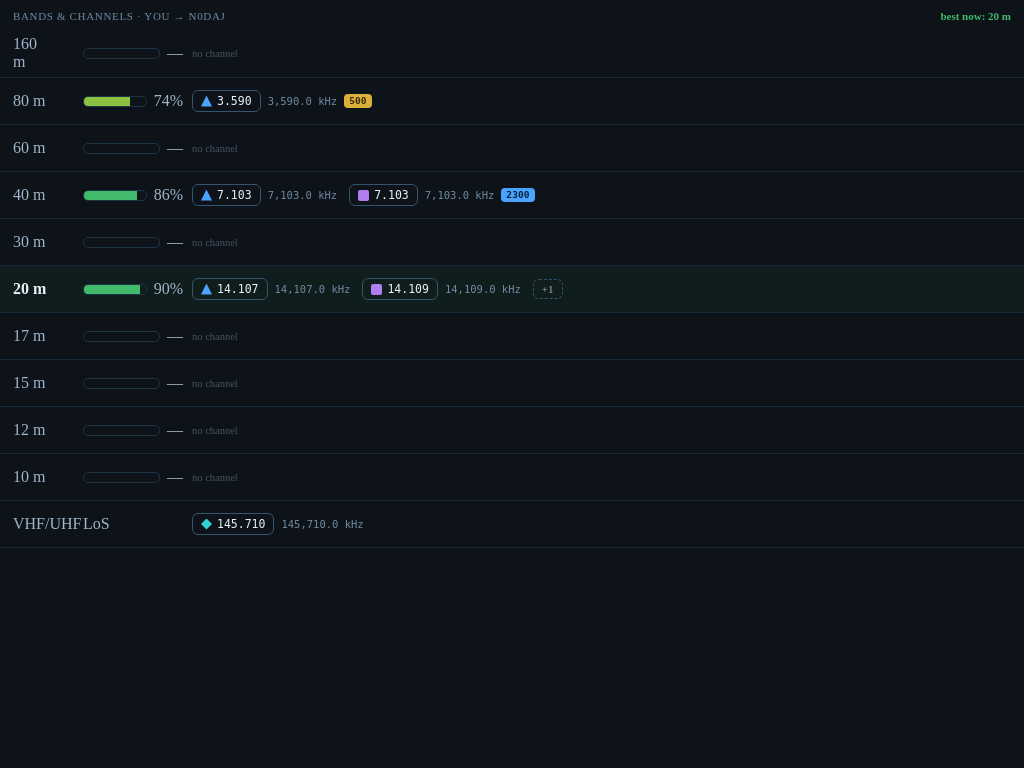
Test: BandMatrix › +N overflow › expands the row to reveal the hidden chip on click
Click the button with test id "bandmatrix-more-20m" at [548, 289], box [533, 279, 562, 299]
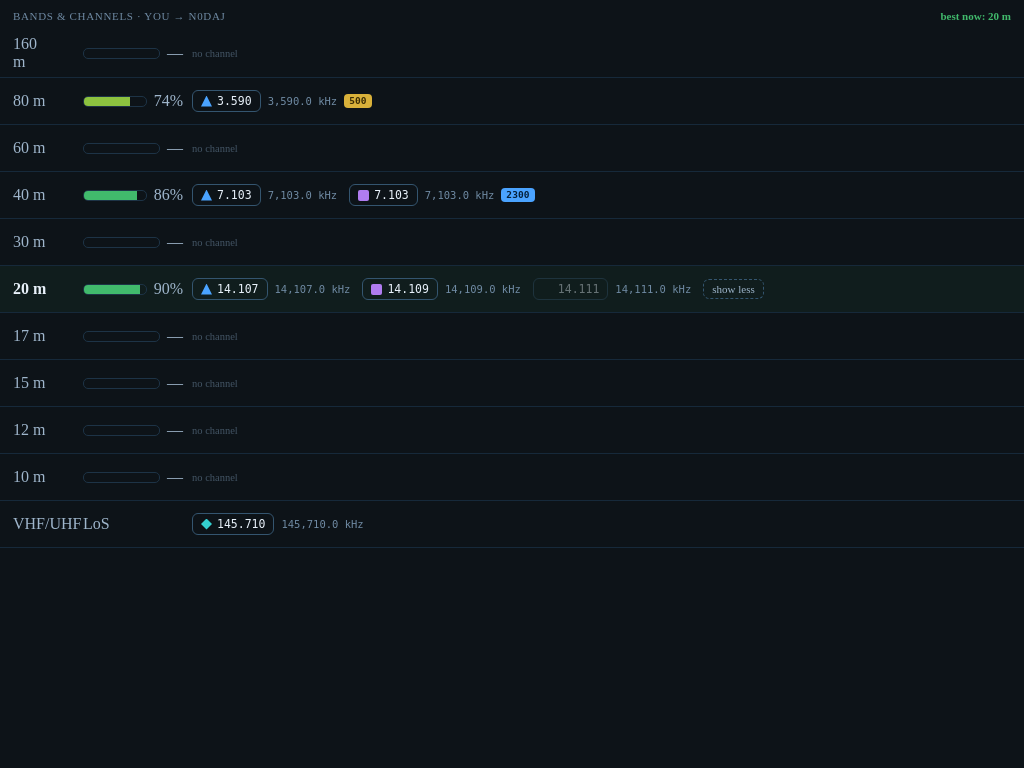
Expected: the button with test id "use-pactor-14111" is shown, [533, 278, 608, 300]
Expected: the button with test id "bandmatrix-more-20m" is expanded, [703, 279, 764, 299]
